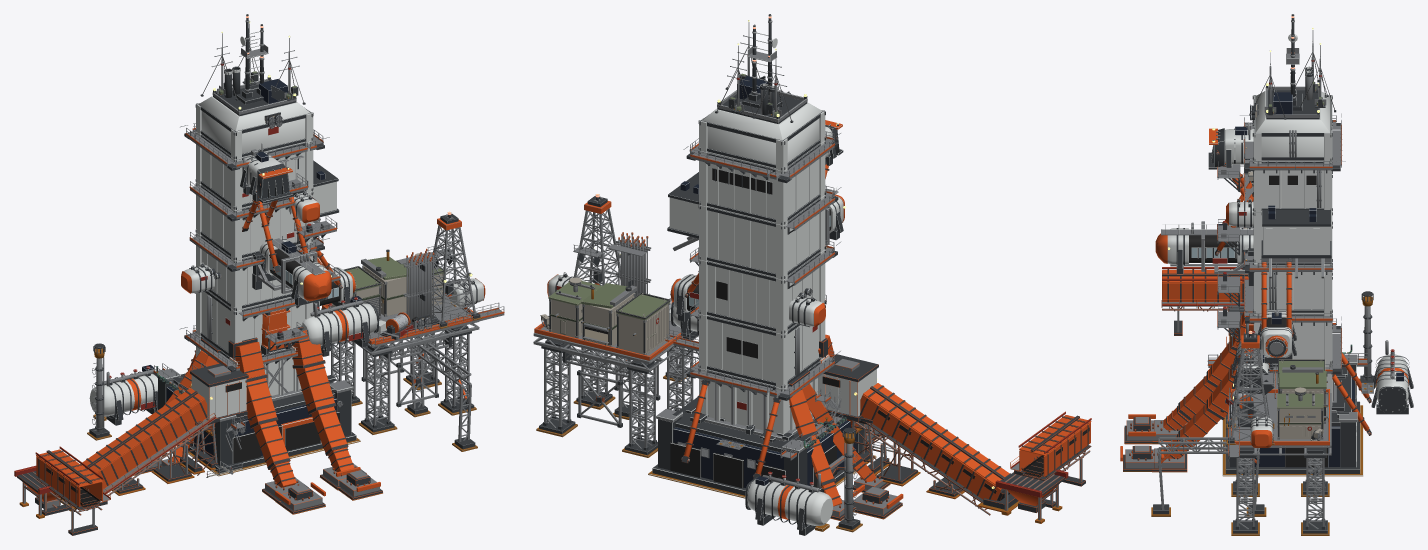
The model's file is refinery_tower.fbx.
3 views of the same model, side by side, from view 1: azimuth 30°, elevation 25°; view 2: azimuth 150°, elevation 25°; view 3: azimuth 270°, elevation 25° (orthographic). The views are drawn at different scales.
Visible parts, largest first — view 1: Mesh_Conveyor_Ramp, Mesh_Bay_5_Crown, Mesh_Refinery_Podium, Mesh_Bay_3_Shoulder, Mesh_Leg_Raked_P, Mesh_Bay_1_Buttressed, Mesh_Leg_Raked_S, Mesh_Conveyor_Flat, Mesh_Bay_4_Windowed, Mesh_Derrick_Mast_Deck, Mesh_Deck_Tank, Mesh_Capsule_Long (+30 smaller); view 2: Mesh_Refinery_Podium, Mesh_Conveyor_Ramp, Mesh_Bay_3_Shoulder, Mesh_Bay_5_Crown, Mesh_Bay_1_Buttressed, Mesh_Bay_2_Plain, Mesh_Bay_4_Windowed, Mesh_Conveyor_Flat, Mesh_Leg_Splayed_W, Mesh_Tank_Ground, Mesh_Bay_0_Ribbed, Mesh_Deck_Module_0_Cargo (+19 smaller); view 3: Mesh_Bay_5_Crown, Mesh_Refinery_Podium, Mesh_Bay_3_Shoulder, Mesh_Bay_4_Windowed, Mesh_Capsule_Long, Mesh_Conveyor_Flat, Mesh_Bay_2_Plain, Mesh_Derrick_Mast_Deck, Mesh_Leg_Raked_P, Mesh_Leg_Raked_S, Mesh_Tank_Ground, Mesh_Outrigger_Deck (+29 smaller).
Boxes of the visible parts, x1,y1,x2,y2 form: Mesh_Conveyor_Ramp: (60, 388, 216, 510); Mesh_Bay_5_Crown: (195, 66, 313, 159); Mesh_Refinery_Podium: (156, 368, 360, 476); Mesh_Bay_3_Shoulder: (195, 160, 339, 260); Mesh_Leg_Raked_P: (228, 337, 308, 503); Mesh_Bay_1_Buttressed: (195, 290, 313, 360); Mesh_Leg_Raked_S: (290, 326, 366, 490); Mesh_Conveyor_Flat: (35, 446, 110, 535); Mesh_Bay_4_Windowed: (195, 131, 313, 210); Mesh_Derrick_Mast_Deck: (427, 211, 481, 328); Mesh_Deck_Tank: (302, 296, 378, 356); Mesh_Capsule_Long: (259, 234, 332, 305); Mesh_Refinery_Podium: (648, 397, 876, 498); Mesh_Conveyor_Ramp: (852, 383, 1019, 515); Mesh_Bay_3_Shoulder: (667, 172, 825, 279); Mesh_Bay_5_Crown: (698, 75, 825, 170); Mesh_Bay_1_Buttressed: (698, 304, 825, 388); Mesh_Bay_2_Plain: (698, 250, 825, 334); Mesh_Bay_4_Windowed: (698, 141, 825, 225); Mesh_Conveyor_Flat: (1010, 411, 1091, 507); Mesh_Leg_Splayed_W: (789, 370, 890, 520); Mesh_Tank_Ground: (745, 471, 833, 535); Mesh_Bay_0_Ribbed: (698, 360, 825, 434); Mesh_Deck_Module_0_Cargo: (616, 292, 670, 355); Mesh_Bay_5_Crown: (1252, 66, 1332, 160); Mesh_Refinery_Podium: (1222, 354, 1363, 476); Mesh_Bay_3_Shoulder: (1252, 175, 1332, 278); Mesh_Bay_4_Windowed: (1250, 124, 1332, 212); Mesh_Capsule_Long: (1155, 222, 1253, 274); Mesh_Conveyor_Flat: (1161, 267, 1248, 335); Mesh_Bay_2_Plain: (1252, 225, 1332, 313); Mesh_Derrick_Mast_Deck: (1226, 330, 1274, 444); Mesh_Leg_Raked_P: (1152, 311, 1245, 443); Mesh_Leg_Raked_S: (1151, 364, 1236, 472); Mesh_Tank_Ground: (1371, 340, 1413, 414); Mesh_Outrigger_Deck: (1230, 389, 1331, 455).
Size of the model in its own units: 8717 by 7666 by 4707.
